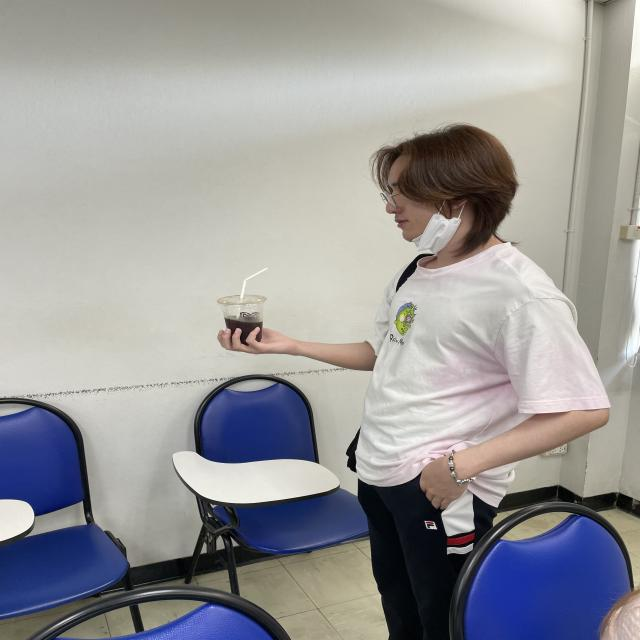cup: (215, 294, 266, 347)
